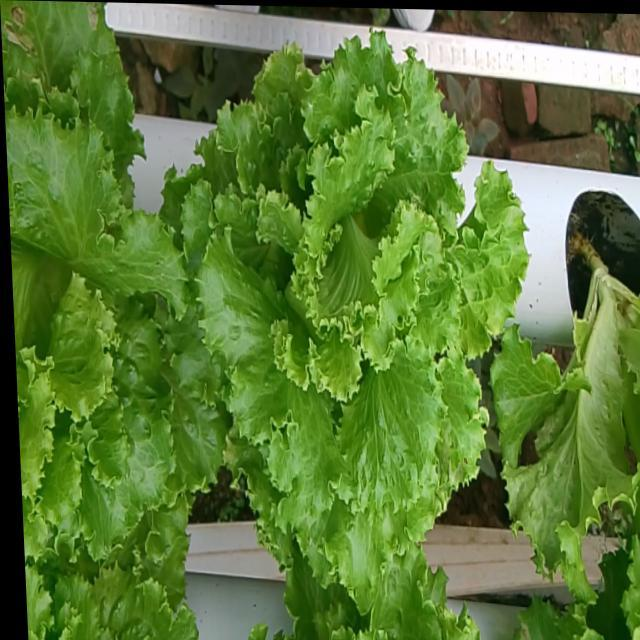Mature: (171, 21, 516, 574), (4, 92, 216, 547)
